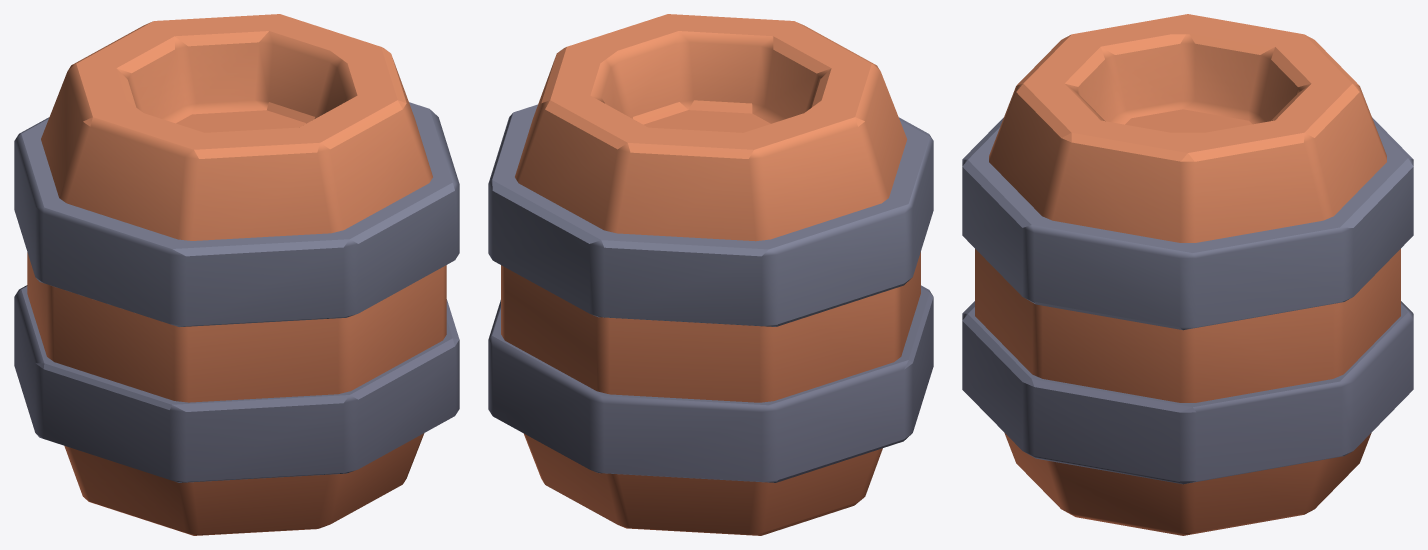
The model's file is kenney-platformer__barrel.glb.
3 renders of one model, left to right at view 1: azimuth 30°, elevation 25°; view 2: azimuth 150°, elevation 25°; view 3: azimuth 270°, elevation 25°, orthographic.
Parts seen in each view (by area): view 1: barrel; view 2: barrel; view 3: barrel.
Boxes of the visible parts, x1,y1,x2,y2 form: barrel: (14, 14, 459, 535); barrel: (488, 14, 933, 535); barrel: (962, 14, 1413, 535).
Bounding box in the file's own units: 0.5098 × 0.4762 × 0.5098.
Materials: 1 (1 with a texture image).
